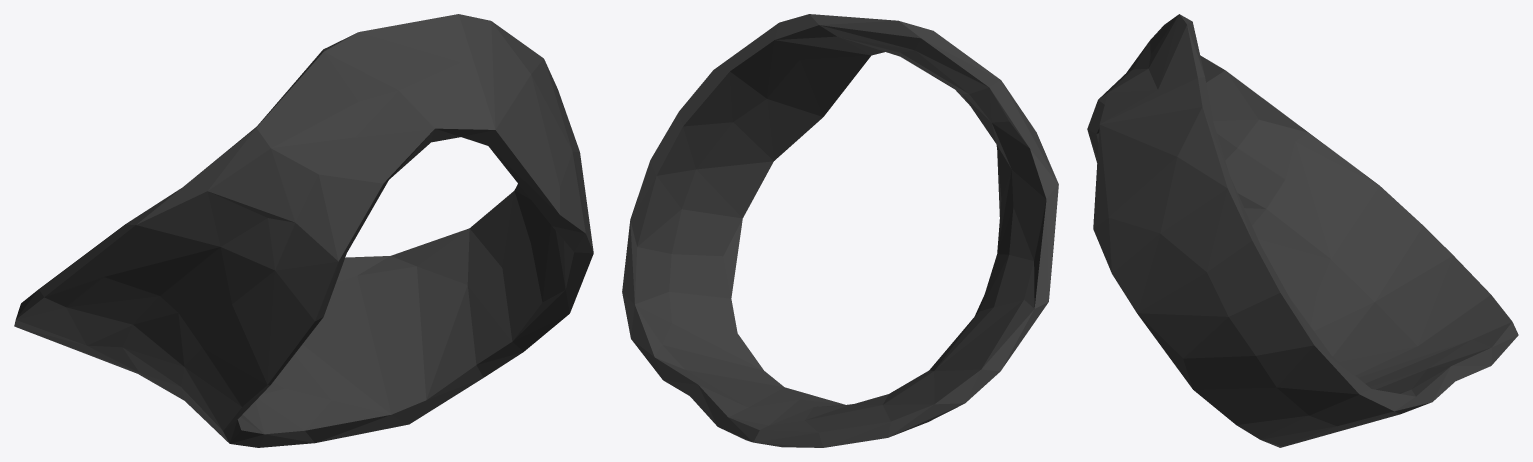
File: Femur_neck.glb
3 views of the same model, side by side, from view 1: azimuth 30°, elevation 25°; view 2: azimuth 150°, elevation 25°; view 3: azimuth 270°, elevation 25° (orthographic). The views are drawn at different scales.
Parts seen in each view (by area): view 1: Femur_neck; view 2: Femur_neck; view 3: Femur_neck.
Boxes of the visible parts, <box> form: Femur_neck: <box>14,14,593,447</box>; Femur_neck: <box>622,14,1058,447</box>; Femur_neck: <box>1087,14,1518,447</box>.
Size of the model in its own units: 0.0329 by 0.0283 by 0.0289.
1 material, 1 textured.
